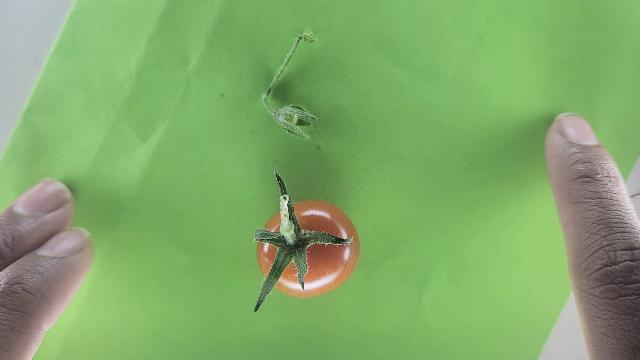Fruit Bud: (282, 105, 314, 127)
Fully Grown: (255, 199, 362, 300)
